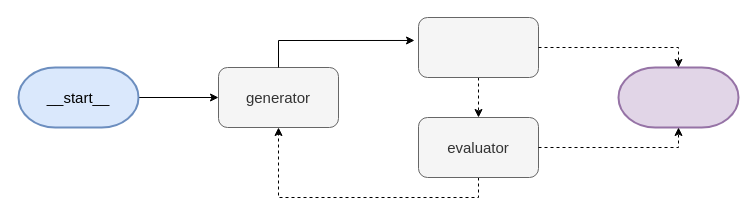
The diagram is 756 pixels wide and 223 high, and some of its shapes have lost their labels. Each missing label, with the centre of its shape:
__end__: the point at 678,97
sql_executor: the point at 478,47
